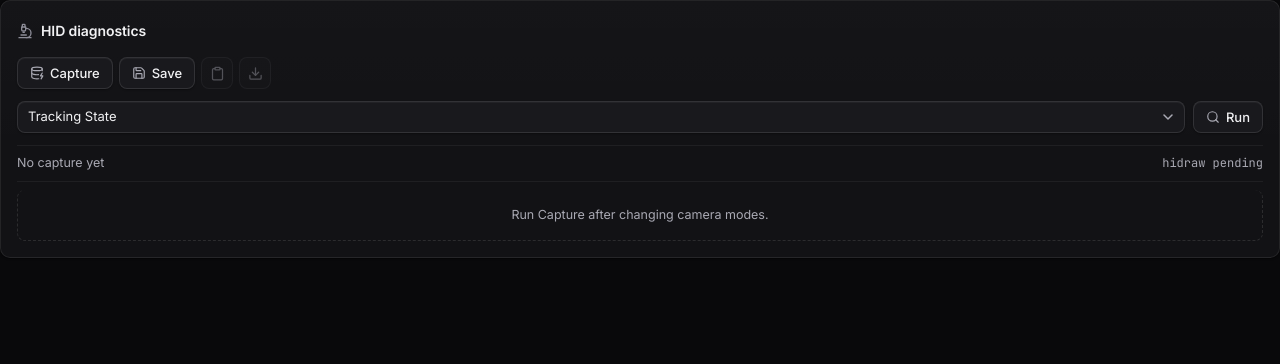
HidDiagnosticsPanel › runs a single HID query through the explorer and decodes it
Click the button "Run" at [1228, 117], box [1193, 101, 1263, 133]
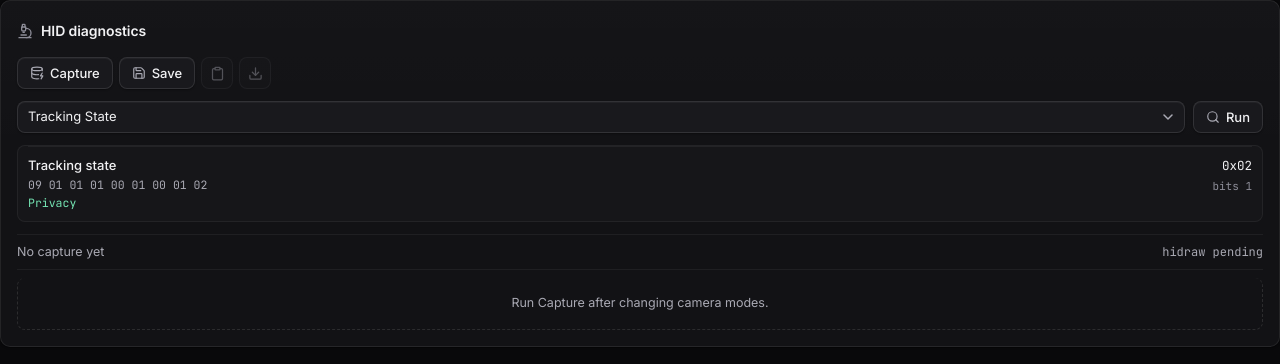
Check: the text "Privacy" is shown, box [28, 195, 76, 210]
Check: the text "0x02" is shown, box [1222, 157, 1252, 174]
